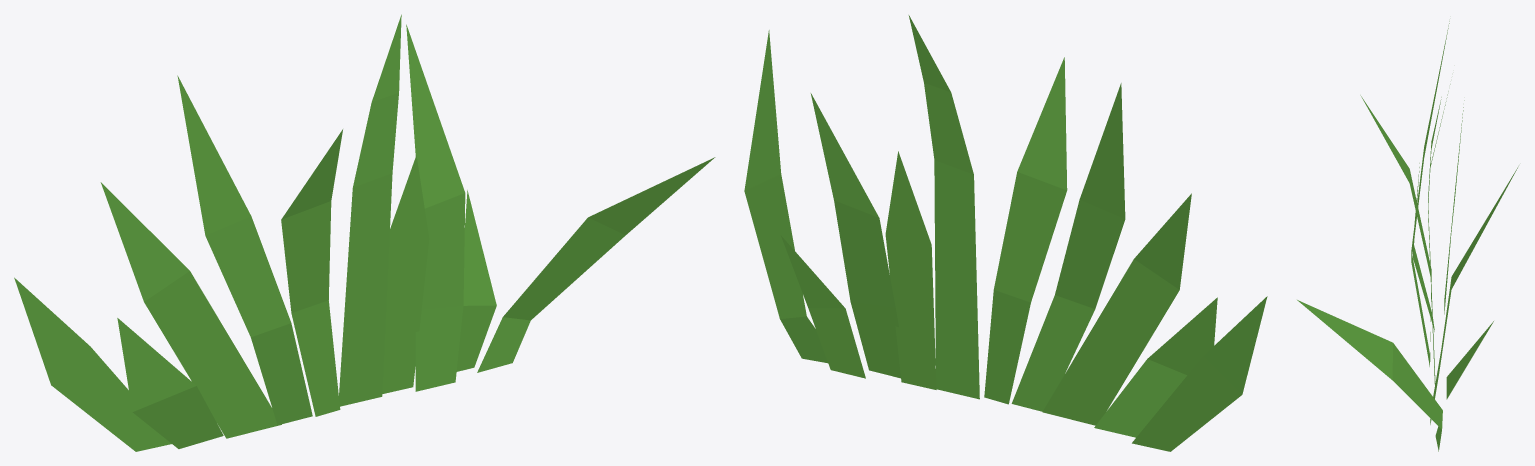
File: grass.glb
3 views of the same model, side by side, from view 1: azimuth 30°, elevation 25°; view 2: azimuth 150°, elevation 25°; view 3: azimuth 270°, elevation 25° (orthographic). The views are drawn at different scales.
Parts seen in each view (by area): view 1: grass; view 2: grass; view 3: grass.
Boxes of the visible parts, x1,y1,x2,y2 form: grass: (14, 14, 715, 451); grass: (744, 15, 1267, 451); grass: (1297, 21, 1518, 451).
Size of the model in its own units: 1.48 by 0.8829 by 0.5718.
Materials: 1 (1 with a texture image).
